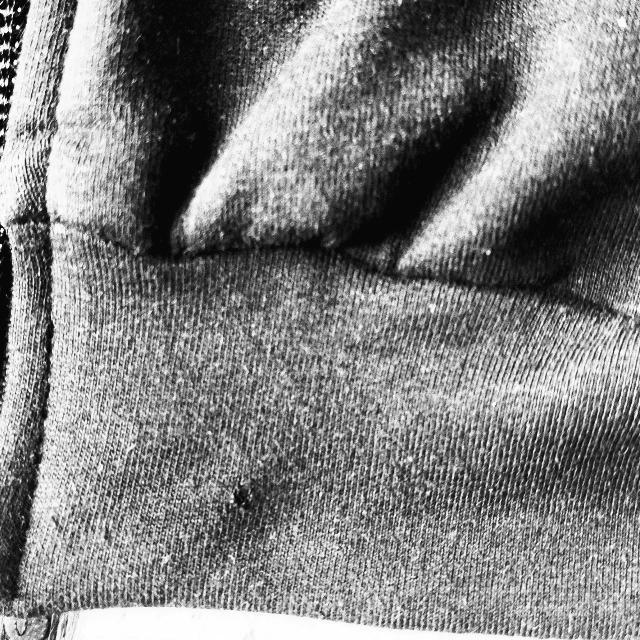Hole: (222, 472, 279, 518)
